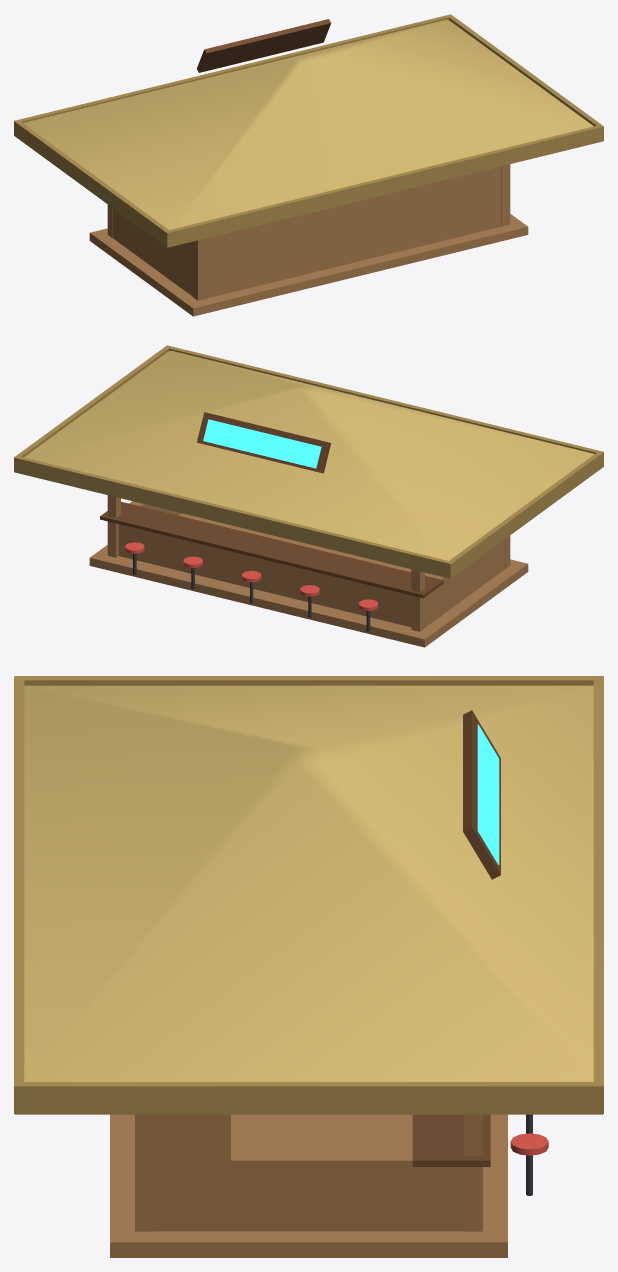
File: beach_bar.glb
3 views of the same model, one above another, from view 1: azimuth 30°, elevation 25°; view 2: azimuth 150°, elevation 25°; view 3: azimuth 270°, elevation 25° (orthographic). The views are drawn at different scales.
Parts seen in each view (by area): view 1: beach_bar__Body; view 2: beach_bar__Body; view 3: beach_bar__Body.
Part boxes in pixels (<box>): beach_bar__Body: <box>14,14,603,316</box>; beach_bar__Body: <box>14,345,603,647</box>; beach_bar__Body: <box>14,676,603,1257</box>.
Size of the model in its own units: 11.22 by 4.4 by 6.82.
